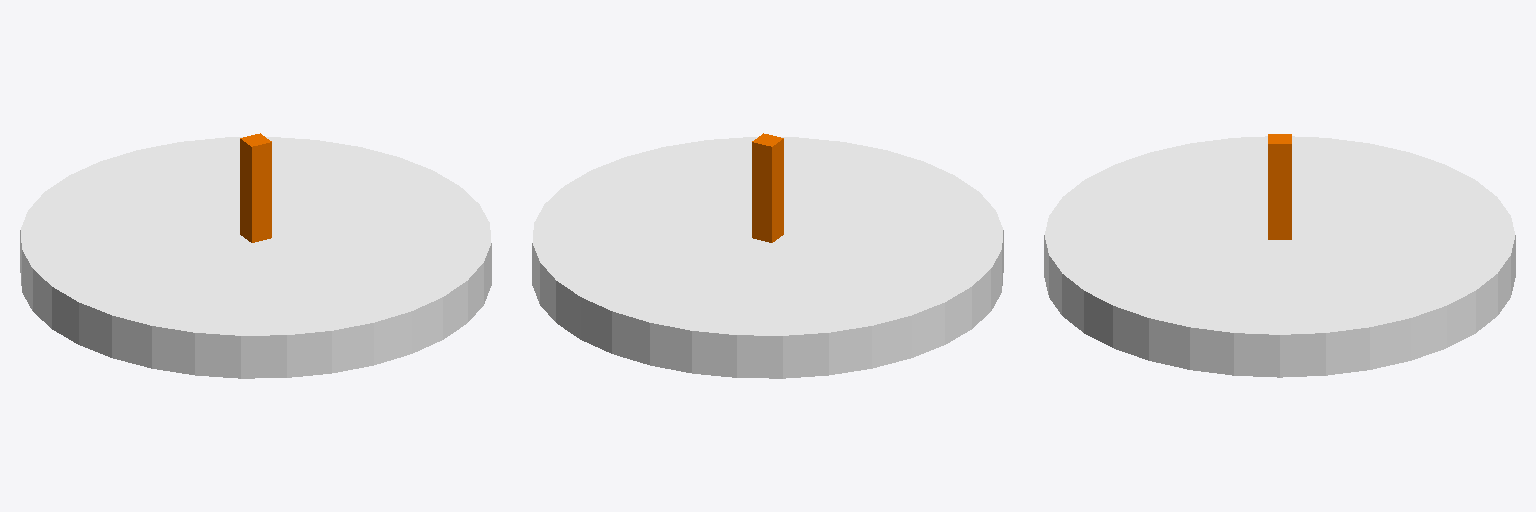
URDF robot description (1DOF_ROBOT):
<robot name="1DOF_ROBOT">
    <link name="base_link">
        <visual>
            <origin xyz="0 0 0"/>
            <geometry>
                <cylinder radius="1" length="0.2"/> <!-- 원통 크기 설정 -->
            </geometry>
            <material name="white">
                <color rgba="1.0 1.0 1.0 1.0"/> <!-- 흰색 설정 -->
            </material>
        </visual>
    </link>

    <!-- 조인트 1 정의 -->
    <joint name="joint1" type="revolute"> <!-- 회전 조인트 설정 -->
        <origin xyz="0 0 0.1" rpy="0 0 0" />
        <parent link="base_link"/>
        <child link="link1"/>
        <axis xyz="1 0 0" /> <!-- Z축을 중심으로 회전 -->
        <limit lower="-1.57" upper="1.57" effort="1000" velocity="1.0" /><!-- 회전 각도 제한 -->
    </joint>

    <!-- 링크 1 정의 -->
    <link name="link1">
        <visual>
            <origin xyz="0 0 0.2" rpy="0 0 0" />
            <geometry>
                <box size="0.1 0.1 0.5"/> <!-- 정육면체 크기 설정 -->
            </geometry>
            <material name="orange">
                <color rgba="1.0 0.5 0.0 1.0"/> <!-- 주황색 설정 -->
            </material>
        </visual>
    </link>
</robot>

--- Render facts (derived) ---
The picture shows the robot from 3 angles, left to right: view 1: azimuth 30°, elevation 25°; view 2: azimuth 150°, elevation 25°; view 3: azimuth 270°, elevation 25°; orthographic projection.
Model 1DOF_ROBOT with 2 links and 1 joints (1 revolute), rooted at base_link, posed every joint at zero.
Visible links, largest first — view 1: base_link, link1; view 2: base_link, link1; view 3: base_link, link1.
Boxes of the visible links, x1=… form: base_link: x1=20, y1=137, x2=491, y2=378; link1: x1=240, y1=133, x2=271, y2=242; base_link: x1=532, y1=137, x2=1003, y2=378; link1: x1=752, y1=133, x2=783, y2=242; base_link: x1=1044, y1=136, x2=1515, y2=377; link1: x1=1268, y1=134, x2=1291, y2=239.
Bounding box of the posed robot: 2 × 2 × 0.65 m (x, y, z).
Geometry: primitives only (box / cylinder / sphere), no mesh files.